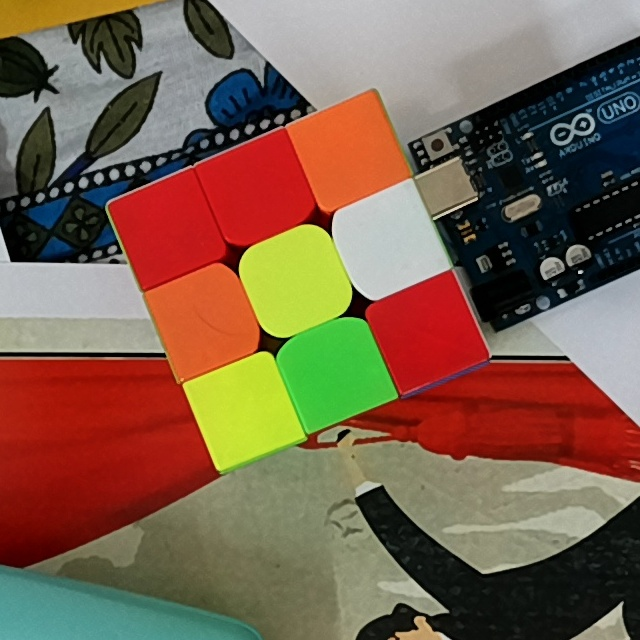tile: (167, 284, 246, 354), (260, 244, 333, 317), (298, 335, 371, 406), (133, 191, 202, 263), (316, 114, 385, 186), (221, 155, 294, 222), (209, 376, 277, 446), (392, 298, 464, 364), (356, 205, 424, 273)
